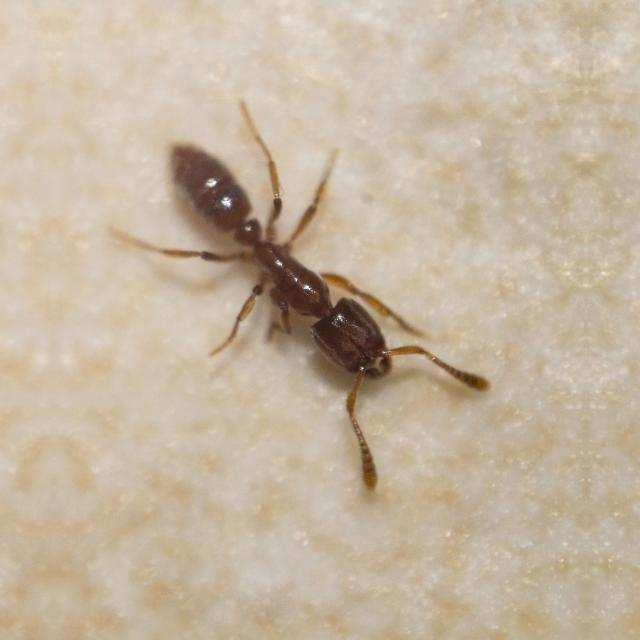Ponera: (132, 87, 496, 449)
